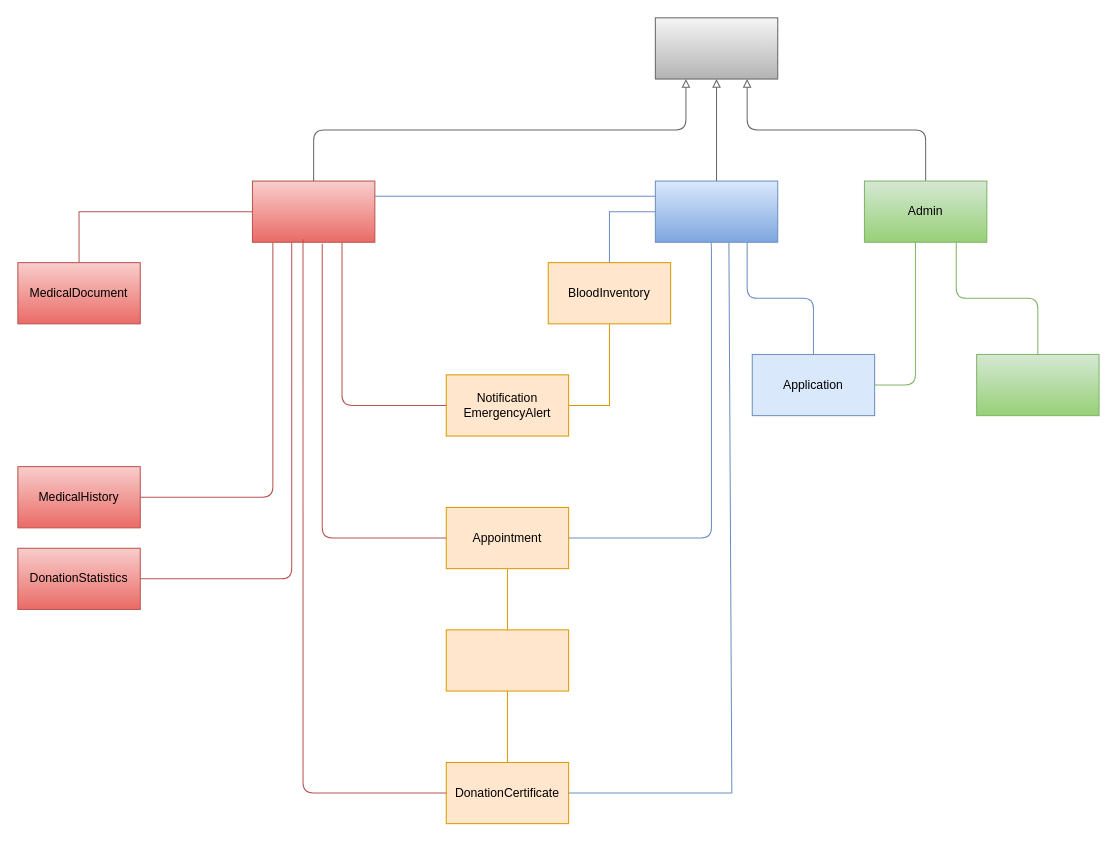
This 1117x842 diagram has some shape labels left out. Each missing label, with the box of its shape:
Donation: (445, 629, 569, 691)
Donor: (251, 180, 375, 242)
Hospital: (654, 180, 778, 242)
Report: (976, 353, 1099, 416)
User: (654, 17, 778, 79)
